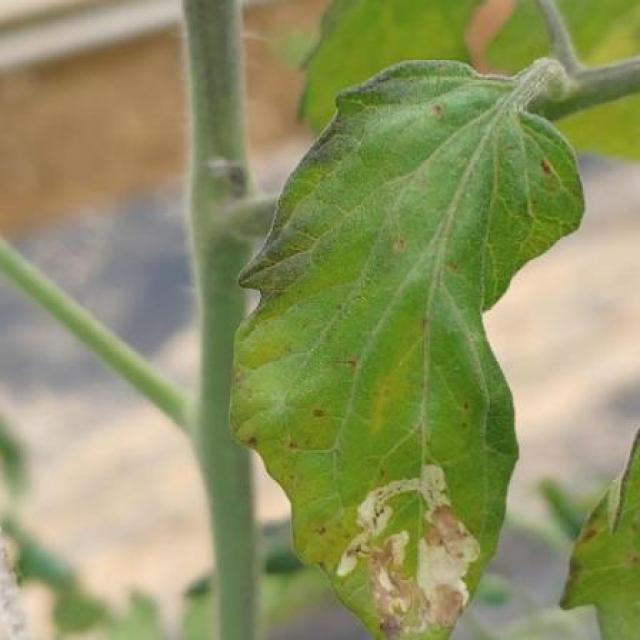Leaf Miner: (232, 62, 585, 638)
